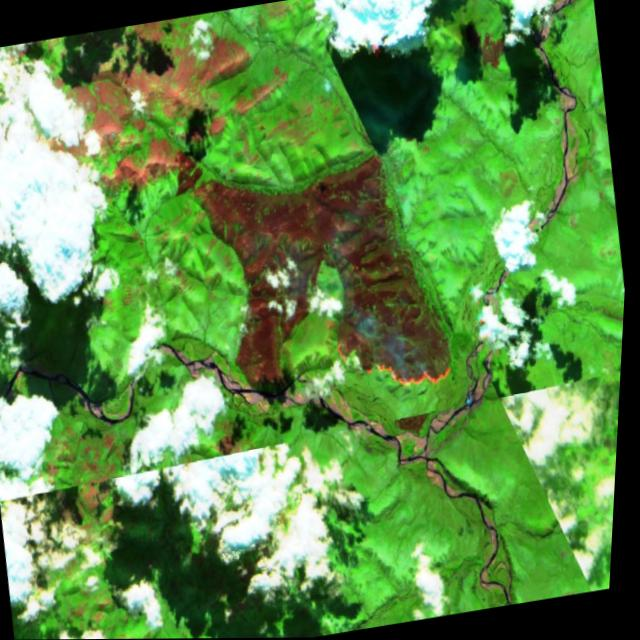fire: (329, 301, 467, 424)
